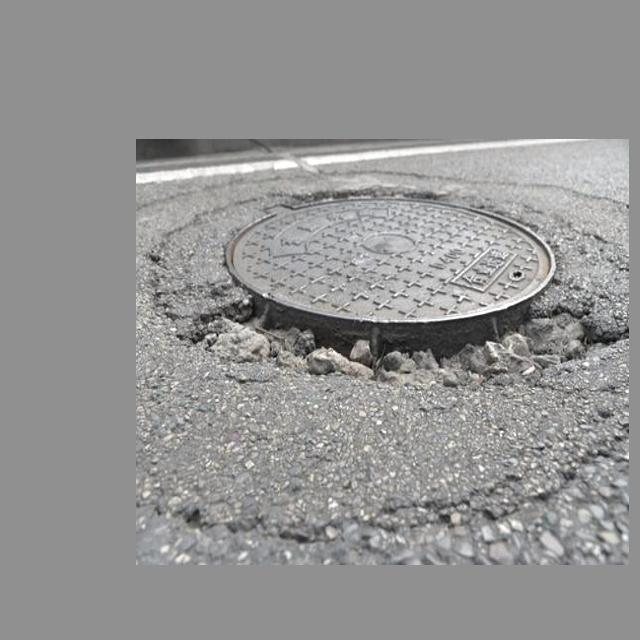circle: (152, 178, 611, 401)
